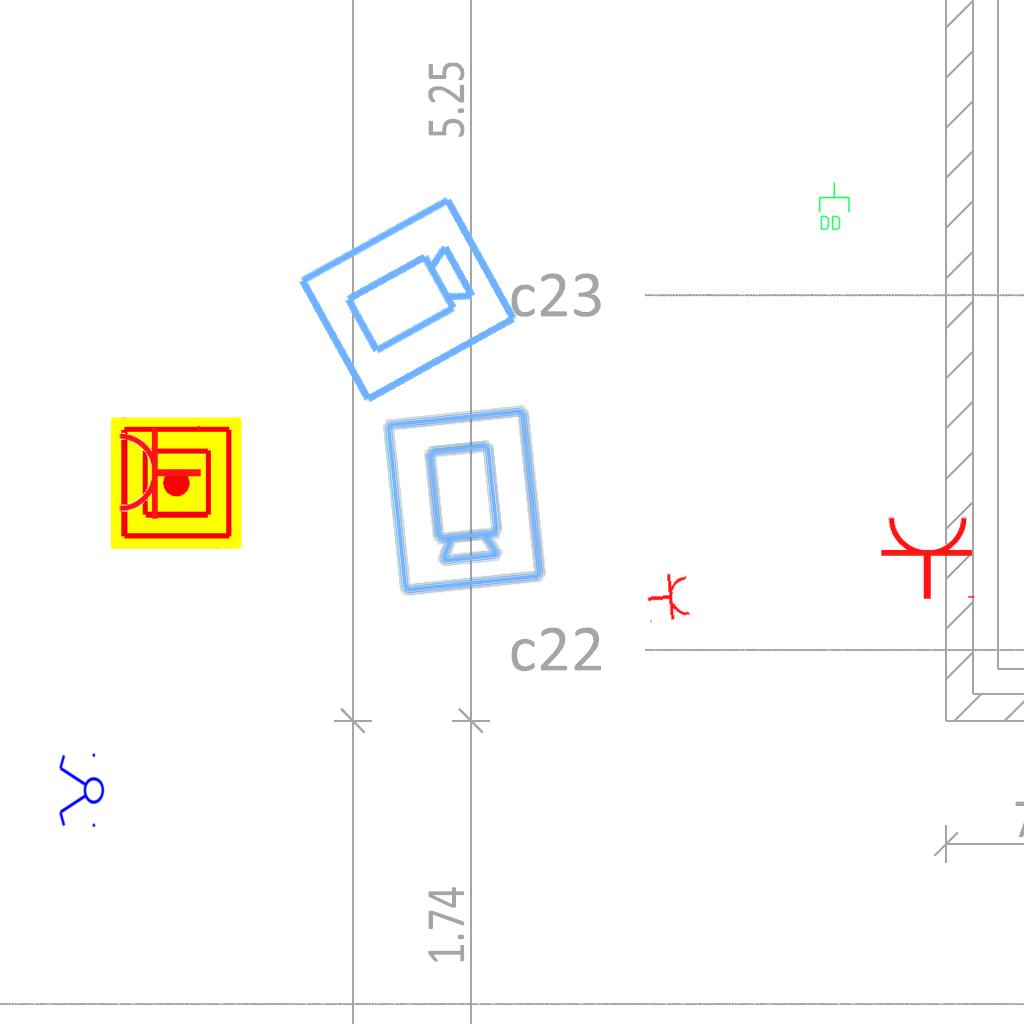Datenanschluss_zweifach: (817, 181, 851, 232)
KFO_Kamera_mit_Festobjektiv: (291, 189, 525, 413), (376, 401, 550, 599)
NAM-Nichtautomatischer_Melder: (110, 417, 242, 549)
Schukosteckdose_einfach: (879, 514, 979, 601), (116, 421, 203, 521), (644, 571, 693, 625)
Serienschalter: (57, 749, 105, 833)
